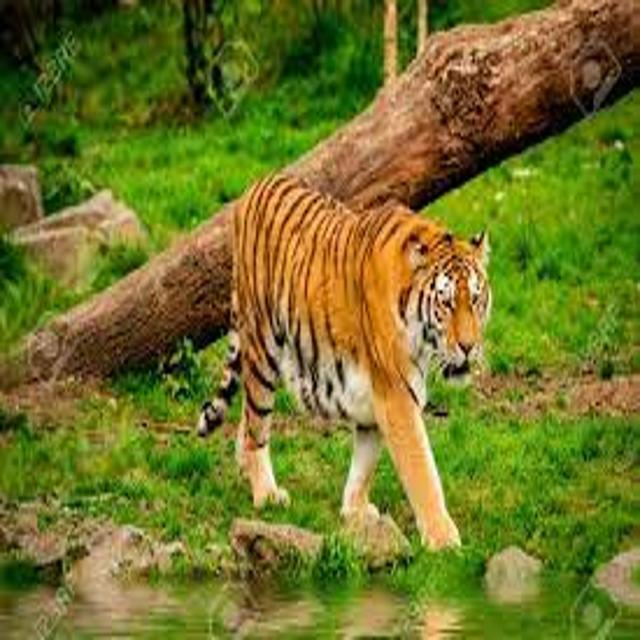Tiger: (175, 150, 523, 559)
